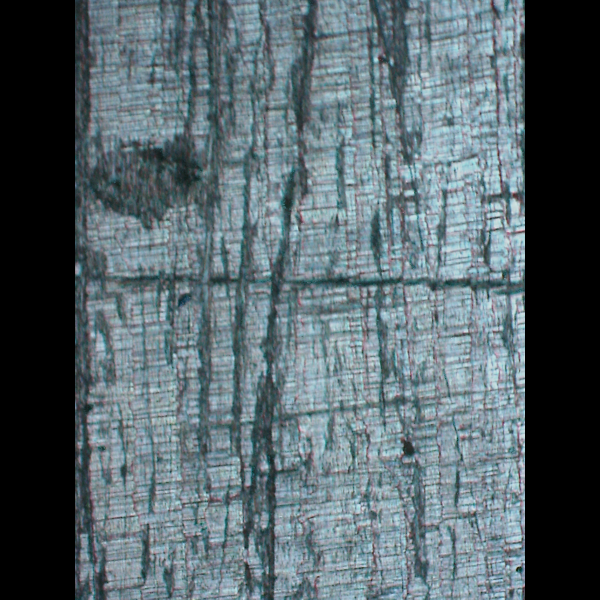d: (76, 130, 208, 240)
